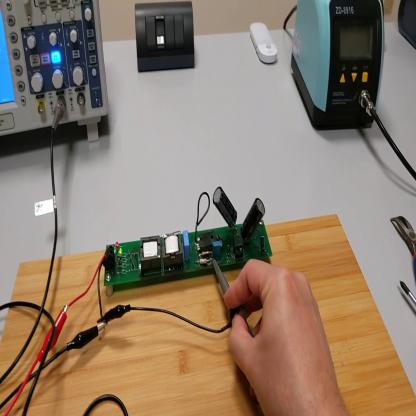hand: (224, 259, 344, 415)
high voltage board: (67, 180, 272, 321)
oscilloscope: (3, 3, 113, 146)
oscilloscope probe tip: (211, 258, 248, 327)
pliers: (391, 199, 416, 282)
screwdriver-: (399, 276, 416, 306)
socket: (397, 4, 416, 50)
welder station: (291, 1, 387, 136)
working area: (1, 213, 416, 416)
